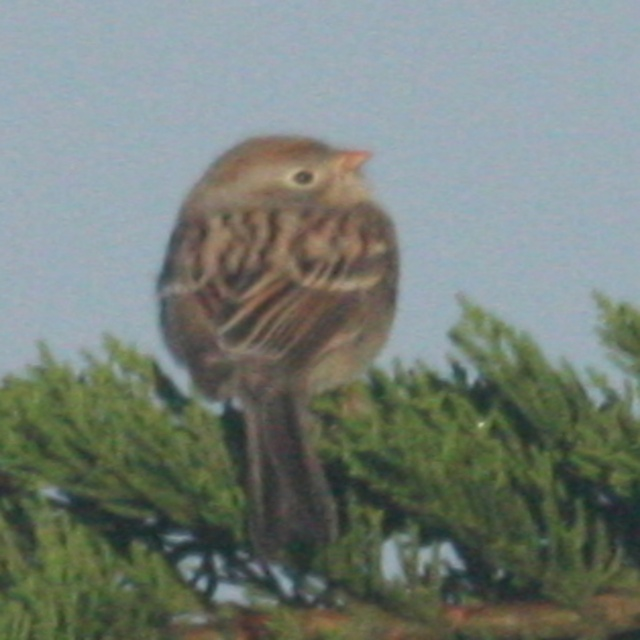Sparrow: (155, 135, 399, 560)
